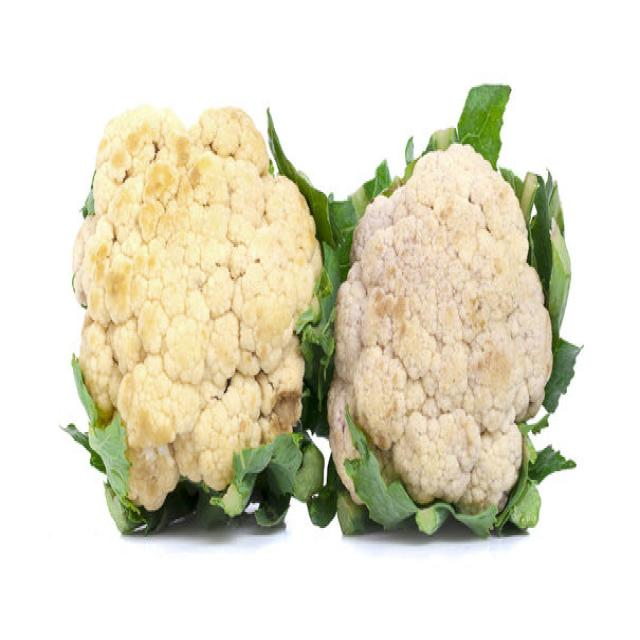Cauliflower: (70, 102, 322, 516), (326, 139, 554, 528)
